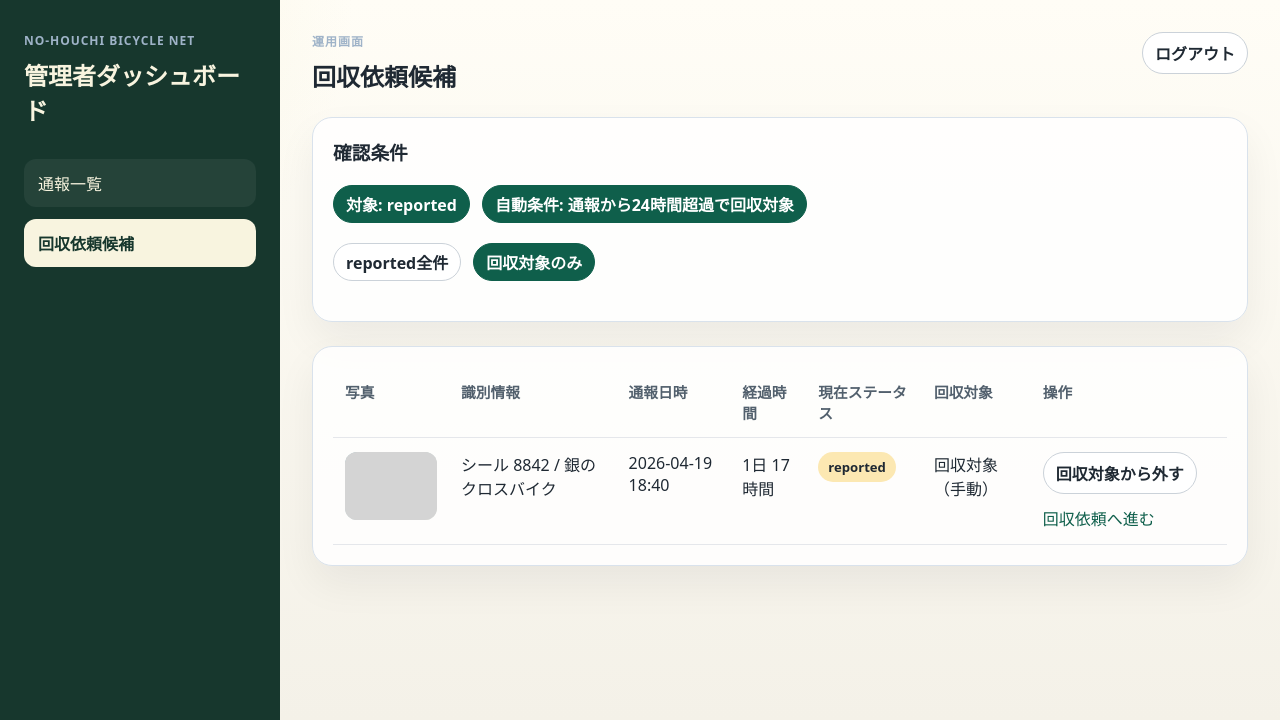
Test: Admin Dashboard pages › removes a report from candidate-only view after turning the flag off
Step 1. Click the button "回収対象から外す" → x=1120, y=473, box x1=1043 y1=452 x2=1197 y2=494
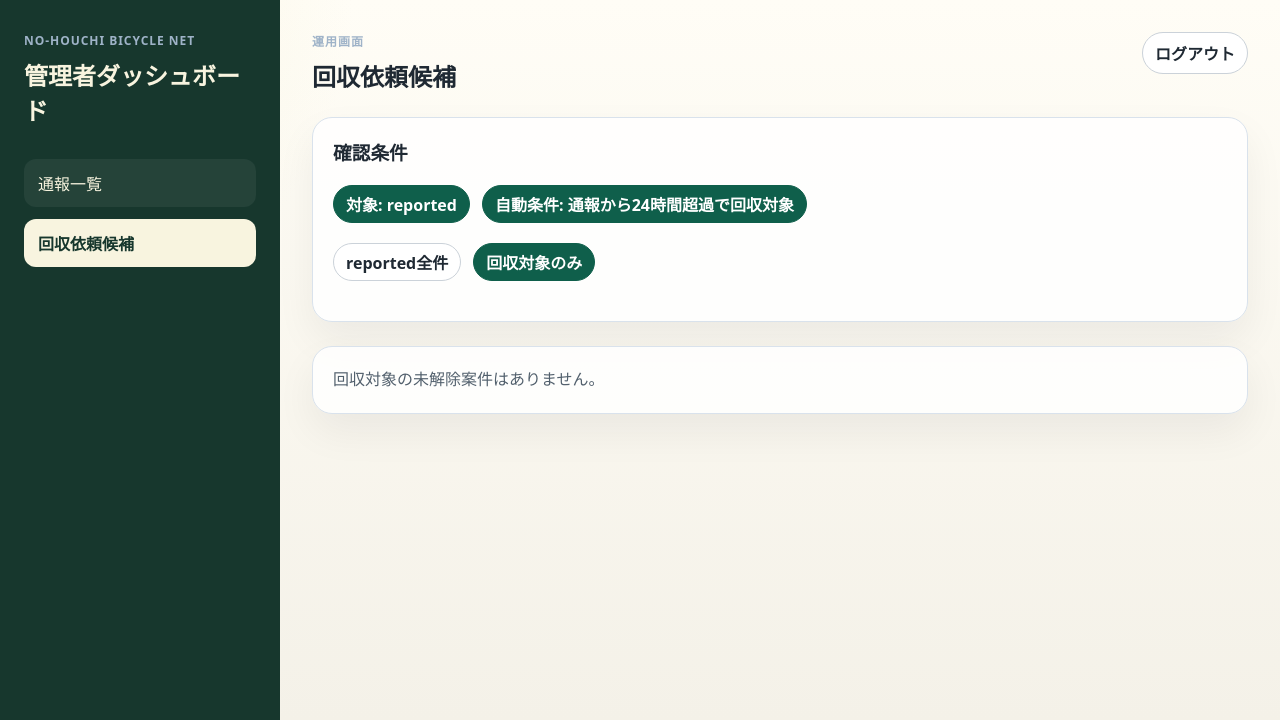
Expected: the text "回収対象の未解除案件はありません。" is shown, x1=333 y1=368 x2=604 y2=390
